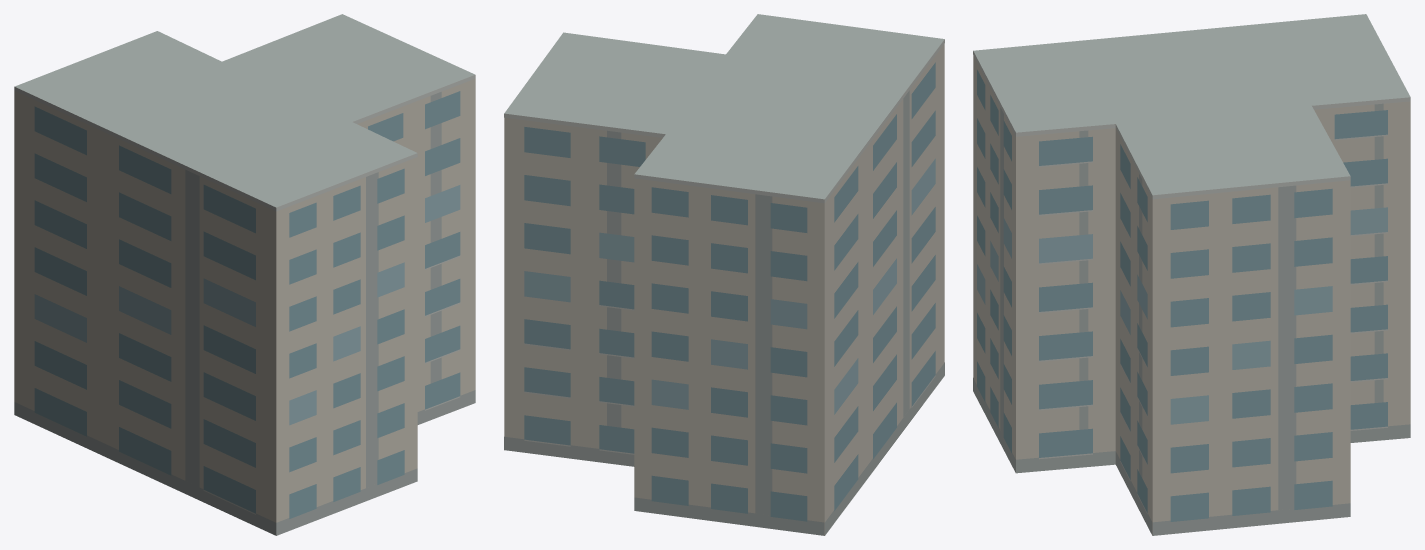
The model's file is survey-upis-32704625.glb.
3 views of the same model, side by side, from view 1: azimuth 30°, elevation 25°; view 2: azimuth 150°, elevation 25°; view 3: azimuth 270°, elevation 25° (orthographic). The views are drawn at different scales.
Parts seen in each view (by area): view 1: survey-upis-32704625.tmp; view 2: survey-upis-32704625.tmp; view 3: survey-upis-32704625.tmp.
Part boxes in pixels (<box>): survey-upis-32704625.tmp: <box>14,14,475,535</box>; survey-upis-32704625.tmp: <box>504,14,944,535</box>; survey-upis-32704625.tmp: <box>973,14,1410,535</box>.
Bounding box in the file's own units: 23.24 × 20.35 × 23.7.
